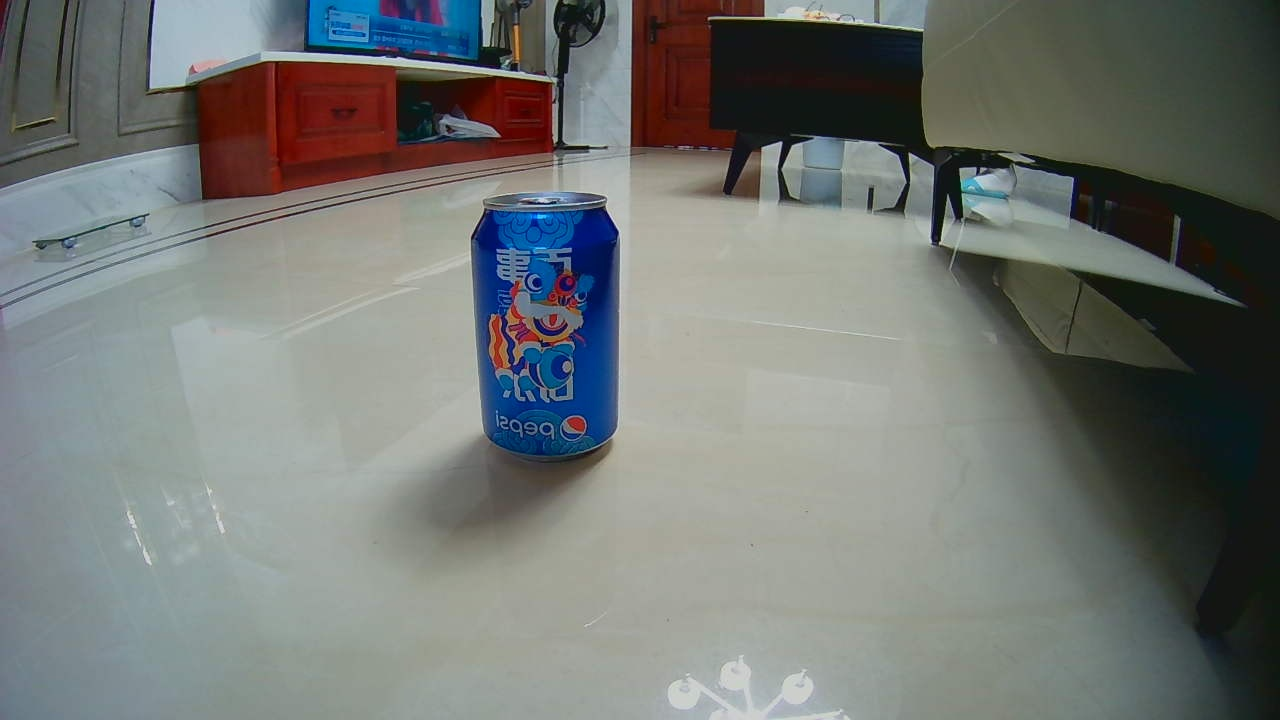pessi: (475, 198, 615, 461)
